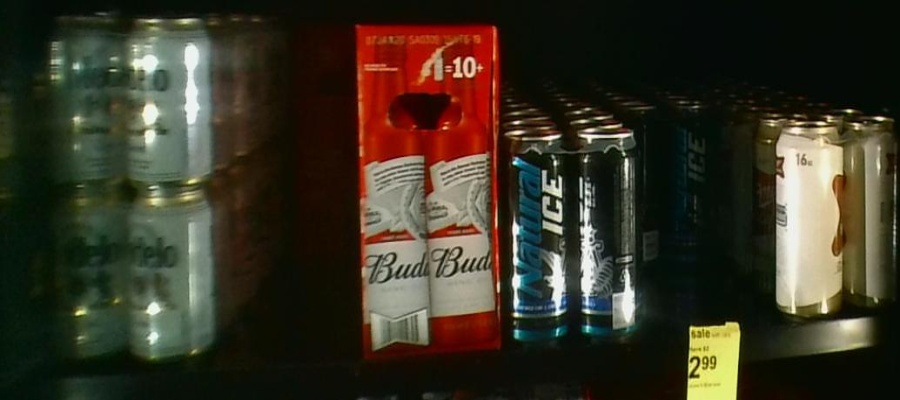bottle: (40, 15, 223, 362), (356, 19, 500, 356), (503, 132, 638, 344), (775, 126, 897, 317), (287, 18, 356, 268), (635, 108, 712, 262)
